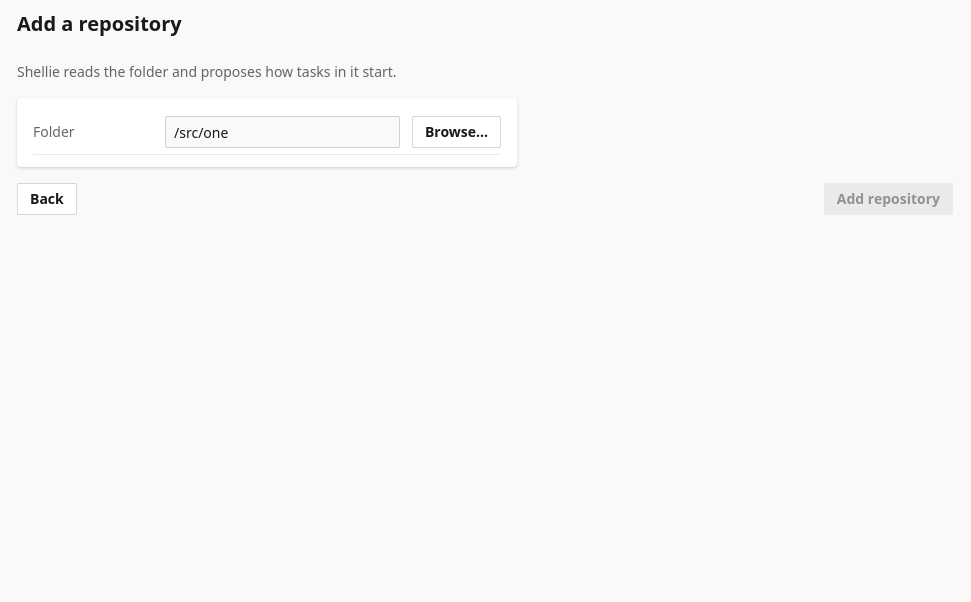
Test: AddRepoScreen › ignores an inspect that resolves after a later one
Step 1. Click the button "Browse…" → (456, 132), box [412, 116, 501, 148]
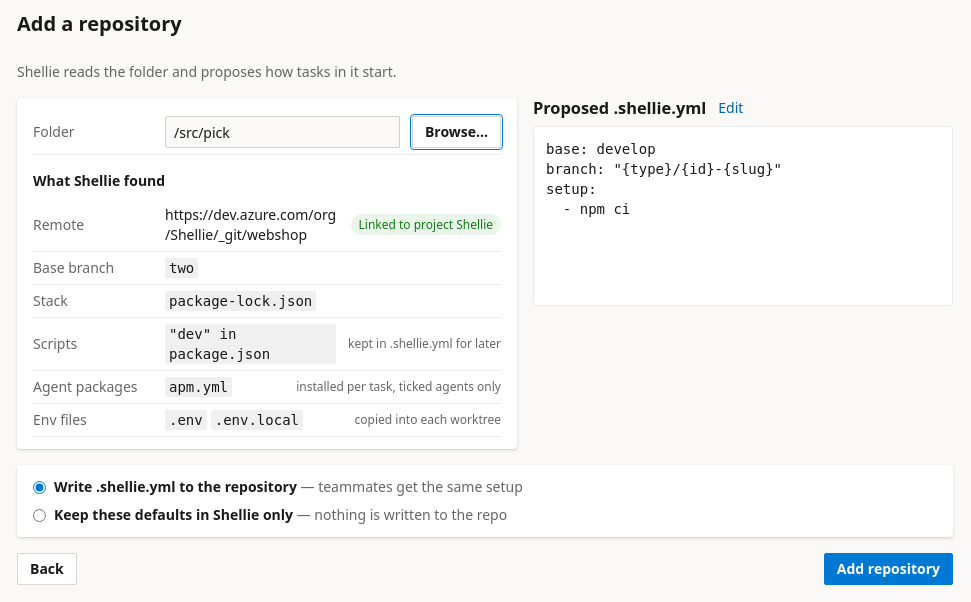
Expected: the text "one" is not shown
Expected: the text "two" is shown, [165, 258, 198, 278]
